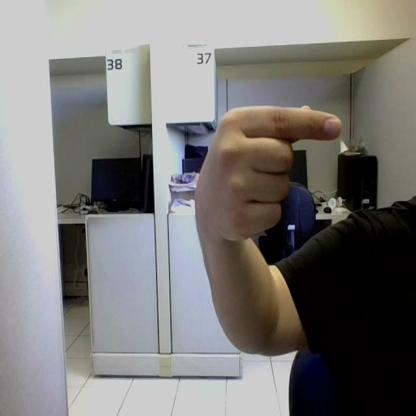G: (209, 106, 342, 240)
